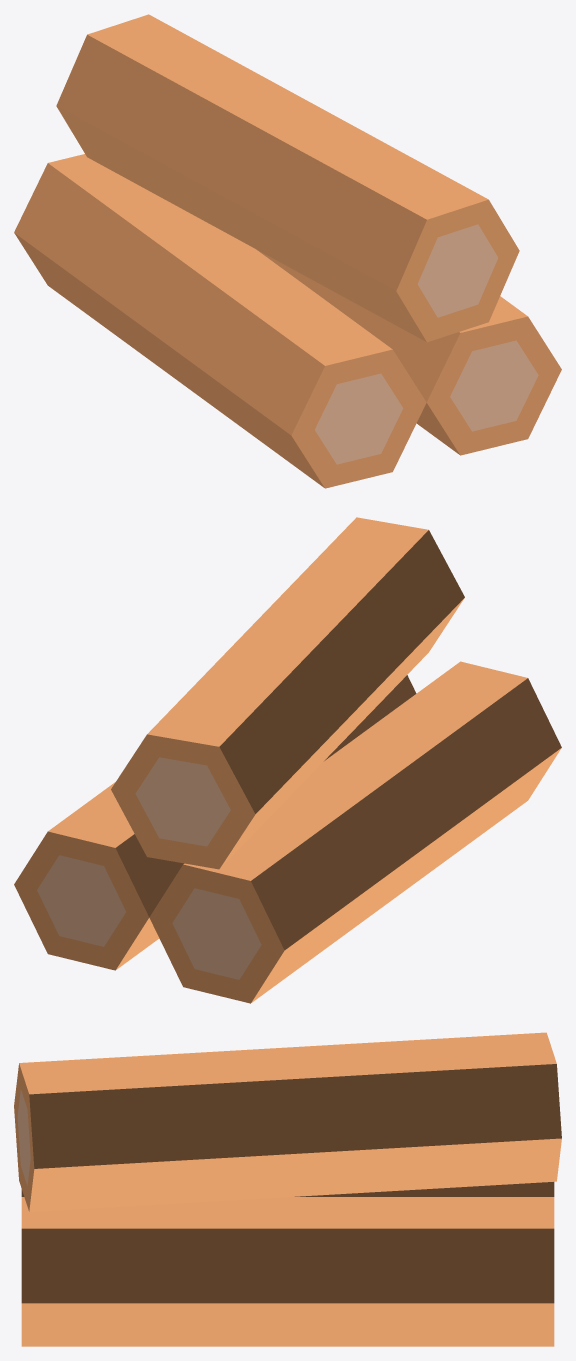
Rendered from logs_stack.obj.
3 renders of one model, top to bottom at view 1: azimuth 30°, elevation 25°; view 2: azimuth 150°, elevation 25°; view 3: azimuth 270°, elevation 25°, orthographic. The views are drawn at different scales.
Visible parts, largest first — view 1: logs_stack; view 2: logs_stack; view 3: logs_stack.
Boxes of the visible parts, box(x1,y1,x2,y2) form: logs_stack: box(14, 14, 561, 488); logs_stack: box(14, 517, 561, 1003); logs_stack: box(14, 1032, 561, 1346).
Size of the model in its own units: 4 by 3.46 by 7.31.
